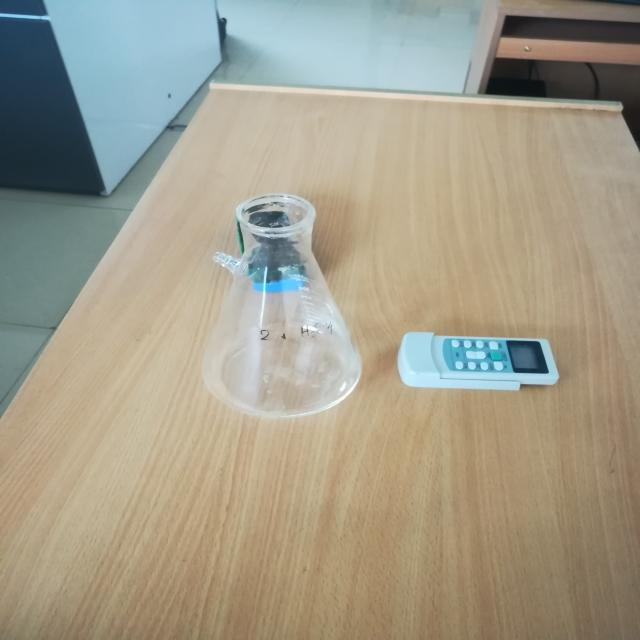Conical_Flask: (181, 176, 397, 436)
